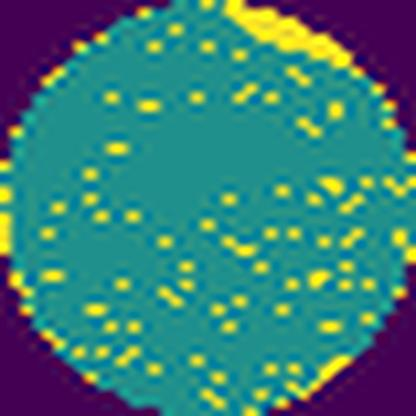Edge-Loc: (221, 0, 367, 80)
